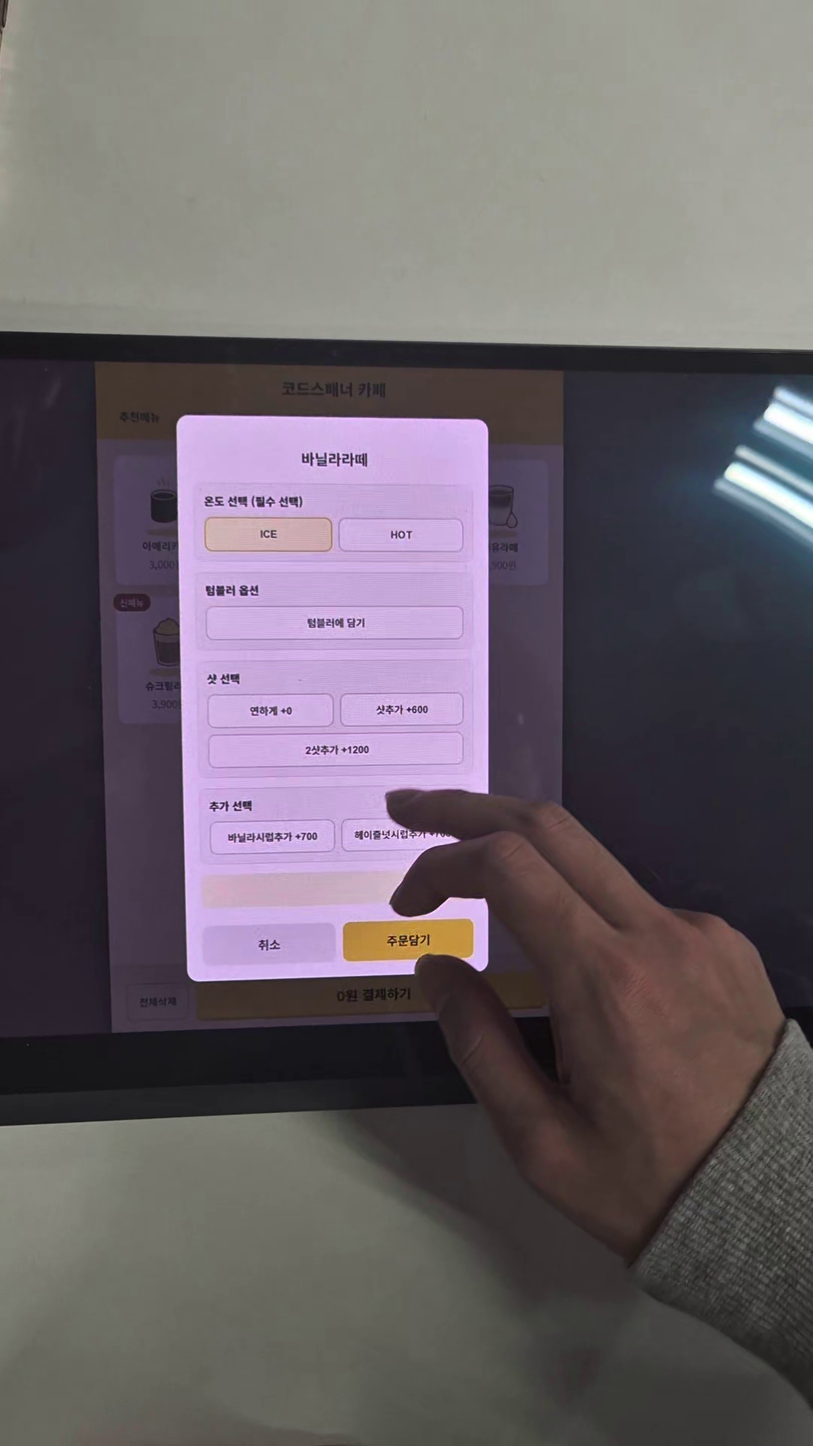action_button: (343, 920, 474, 962), (203, 922, 334, 964)
option_button: (209, 730, 464, 767), (207, 605, 461, 642), (204, 693, 332, 729), (339, 690, 466, 726), (205, 517, 332, 552), (337, 518, 464, 553), (342, 816, 469, 851), (207, 821, 334, 856)
popup_modal: (176, 414, 489, 980)
